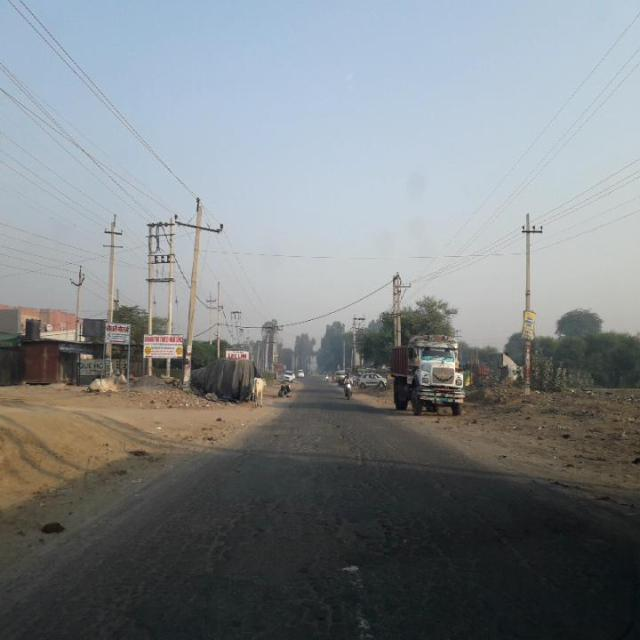D20: (74, 438, 532, 635)
D40: (172, 499, 400, 633)
